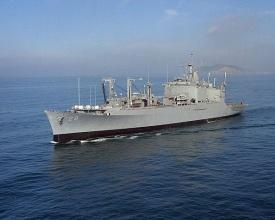warship: (43, 56, 248, 140)
